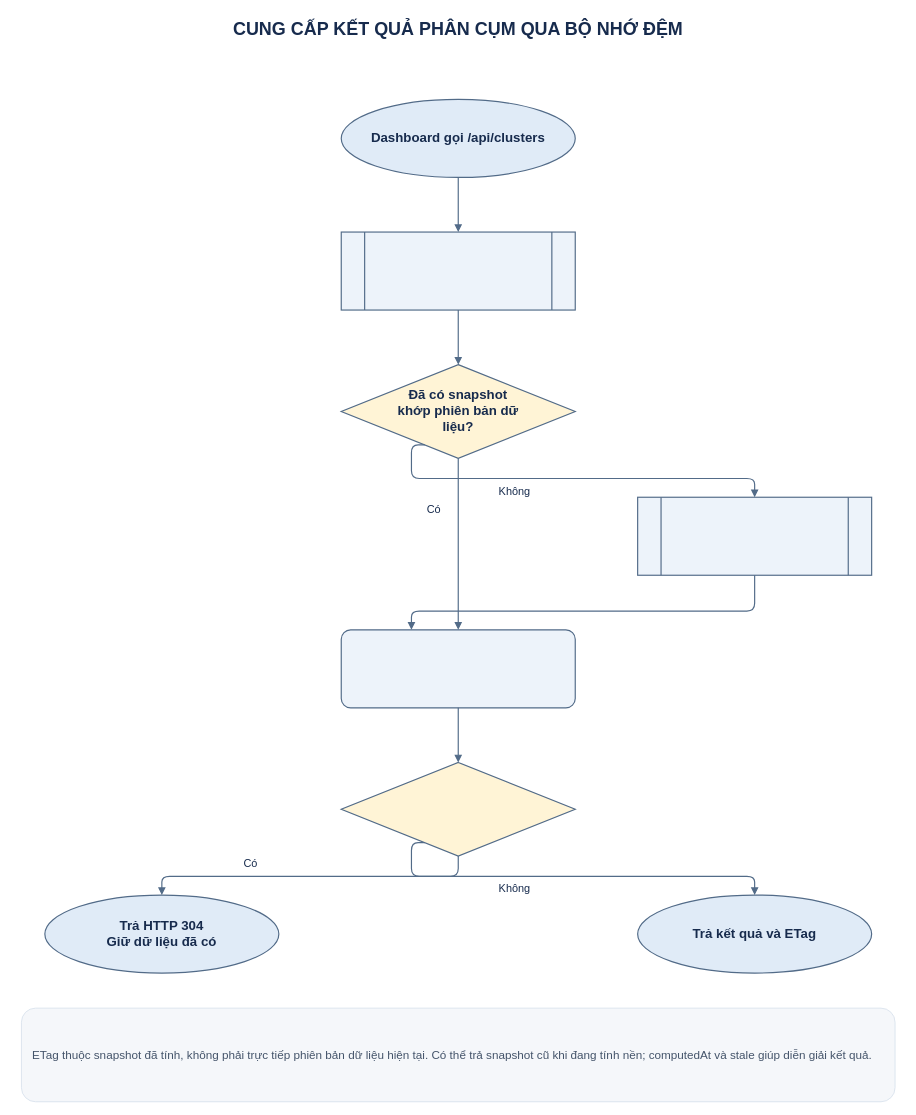
Image size: 916x1115. Some labels were removed from this diagram. The shapes that lost their labels are listed below. From the top down, each one's centre as x and y in pixels, then its label:
At point 457,270: "Lấy snapshot qua dịch vụ bộ nhớ đệm".
At point 754,535: "Tính ngay hoặc lên lịch tính nền theo thời gian tính và giới hạn tần suất".
At point 457,668: "Dùng snapshot sẵn có hoặc snapshot vừa tính".
At point 457,809: "If-None-Match khớp ETag snapshot trả về?".
